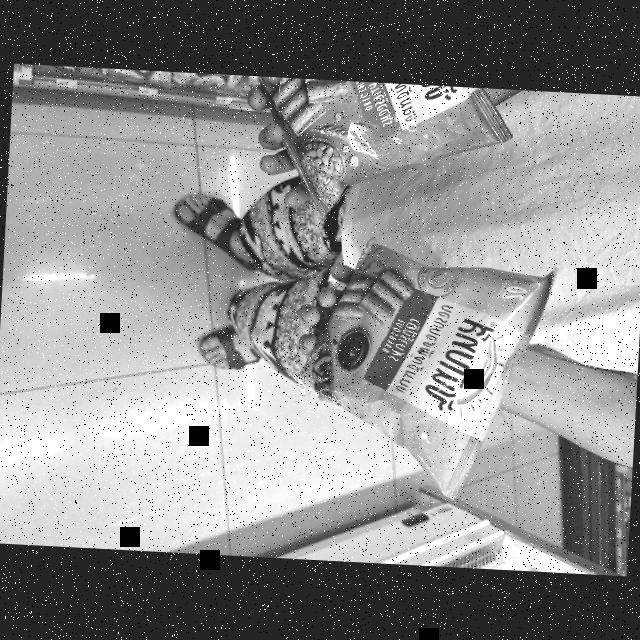snack_bag: (296, 228, 565, 512), (242, 76, 518, 230)
